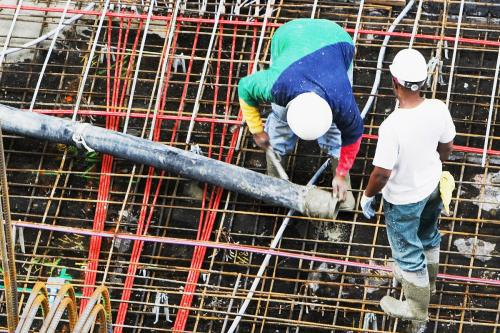helmet: (285, 89, 338, 146), (391, 45, 430, 96)
